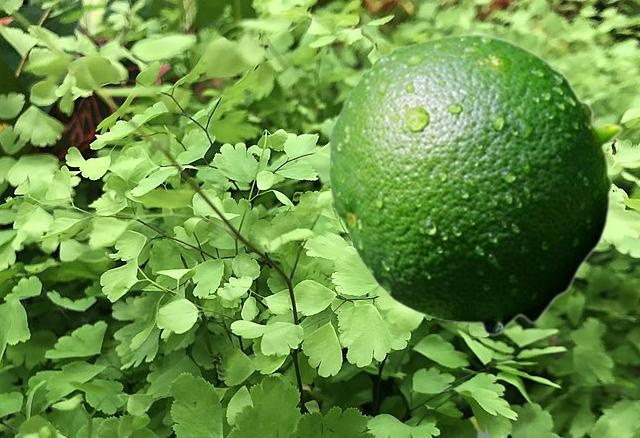dalandan: (327, 32, 622, 336)
